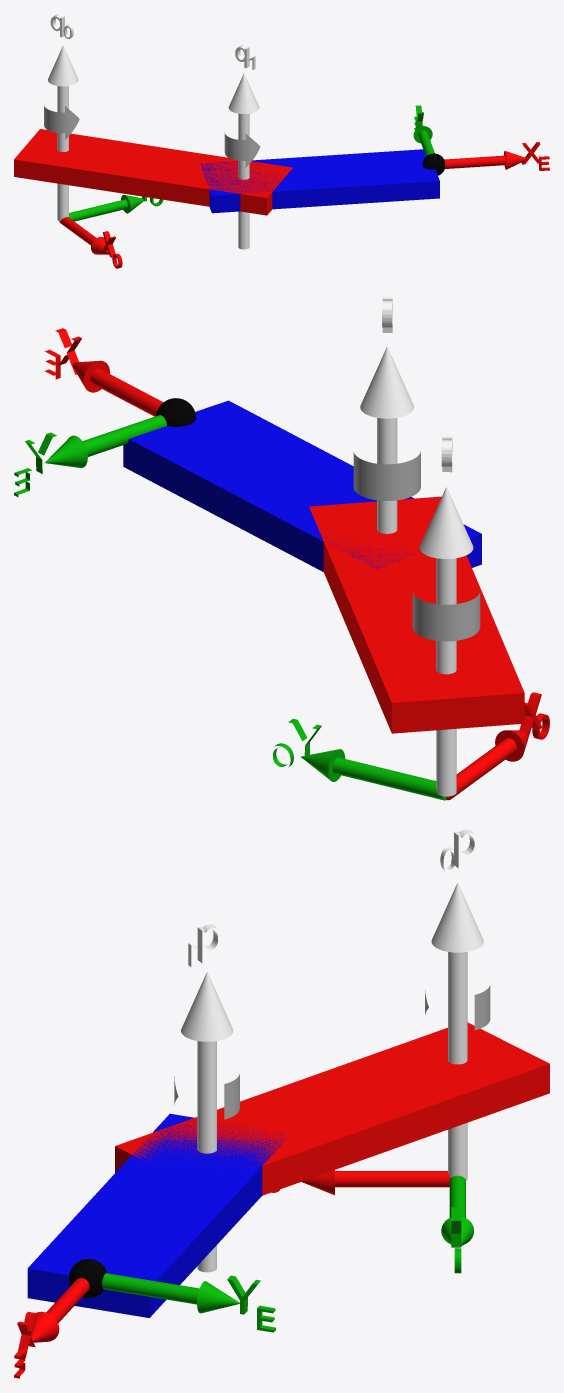
The model's file is fig7_4b.gltf.
3 views of the same model, one above another, from view 1: azimuth 30°, elevation 25°; view 2: azimuth 150°, elevation 25°; view 3: azimuth 270°, elevation 25° (orthographic). The views are drawn at different scales.
Visible parts, largest first — view 1: Renderer Node; view 2: Renderer Node; view 3: Renderer Node.
Boxes of the visible parts, <box> form: Renderer Node: <box>14,14,549,268</box>; Renderer Node: <box>14,297,549,800</box>; Renderer Node: <box>14,829,549,1378</box>.
Bounding box in the file's own units: 2.43 × 1.21 × 1.64.
